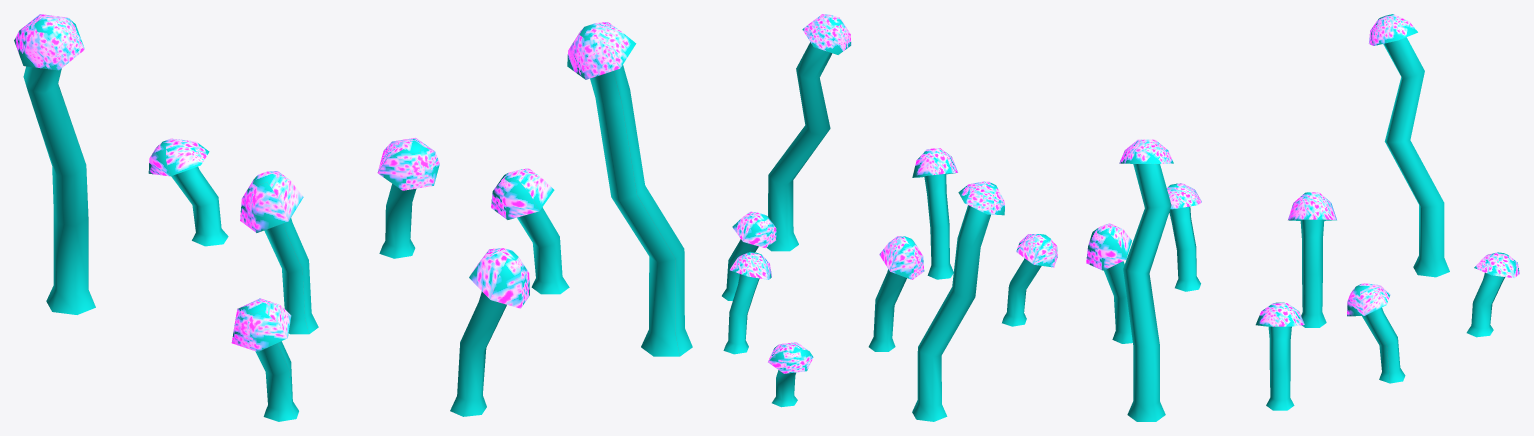
The model's file is MushroomGroup.fbx.
The picture shows the model from 3 angles, left to right: view 1: azimuth 30°, elevation 25°; view 2: azimuth 150°, elevation 25°; view 3: azimuth 270°, elevation 25°; orthographic projection. The views are drawn at different scales.
Visible parts, largest first — view 1: MushroomGroup; view 2: MushroomGroup; view 3: MushroomGroup.
Part boxes in pixels (x1,y1,x2,y2): MushroomGroup: (14,14,692,421); MushroomGroup: (722,14,1057,421); MushroomGroup: (1086,14,1519,421).
Bounding box in the file's own units: 254 × 165 × 259.
